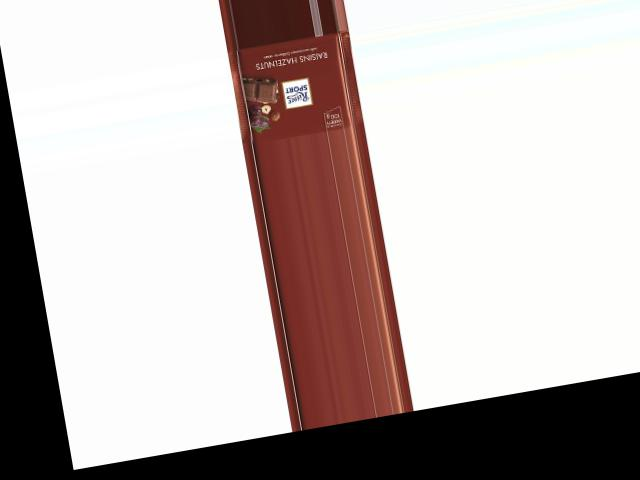chocolate: (224, 29, 364, 146)
